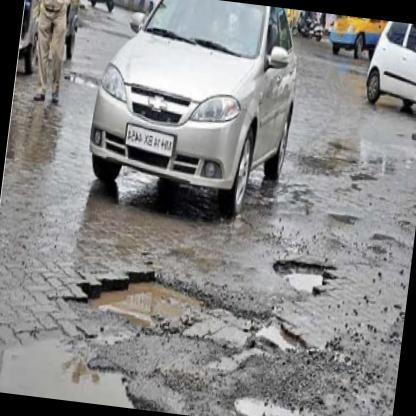pothole: (0, 335, 152, 416), (74, 268, 212, 332), (251, 308, 310, 356), (275, 254, 335, 298), (229, 389, 308, 416)
